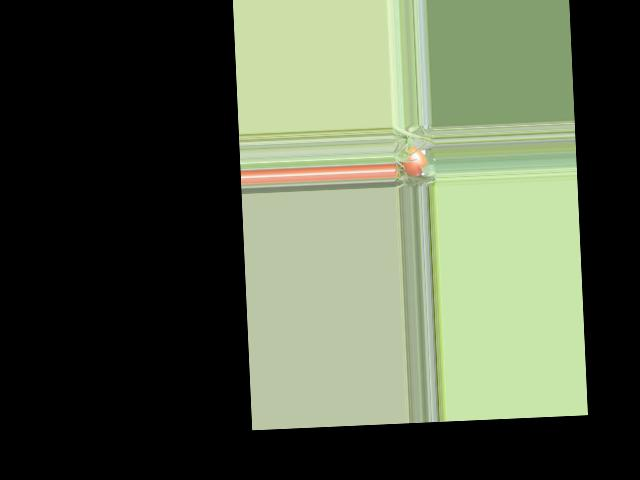tomato: (400, 146, 427, 177)
